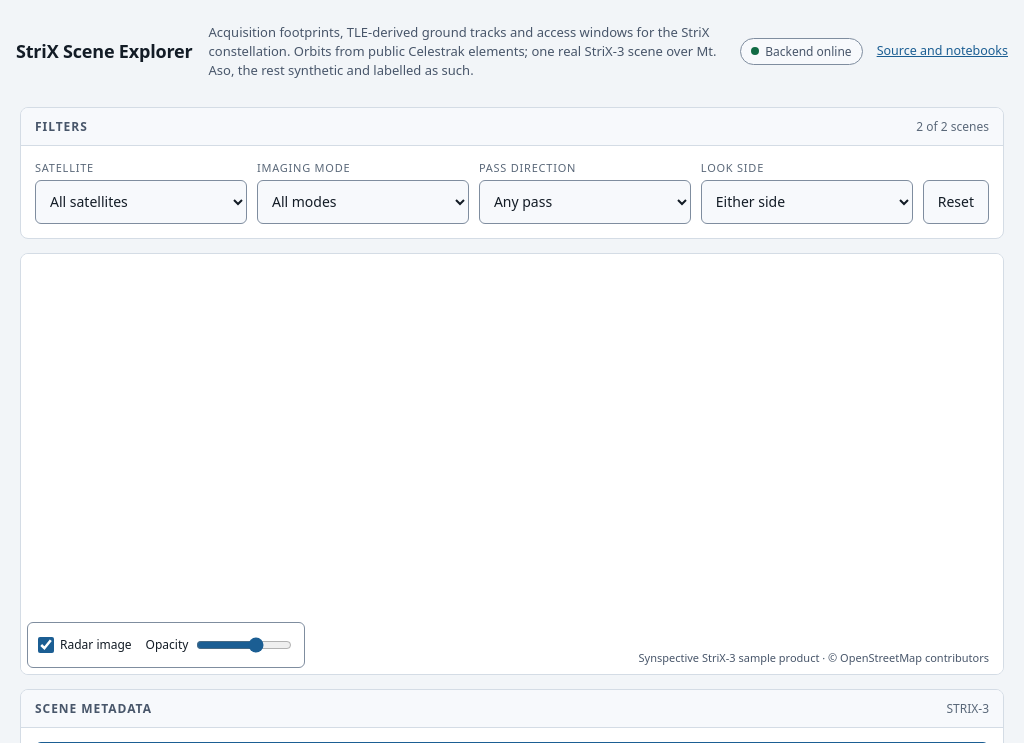
Test: App with the backend up › narrows the access-window timeline when a satellite is filtered
Select "STRIX-3" in the dropdown labelled "Satellite": (141, 202) [35, 180, 247, 224]
(page scrolled)
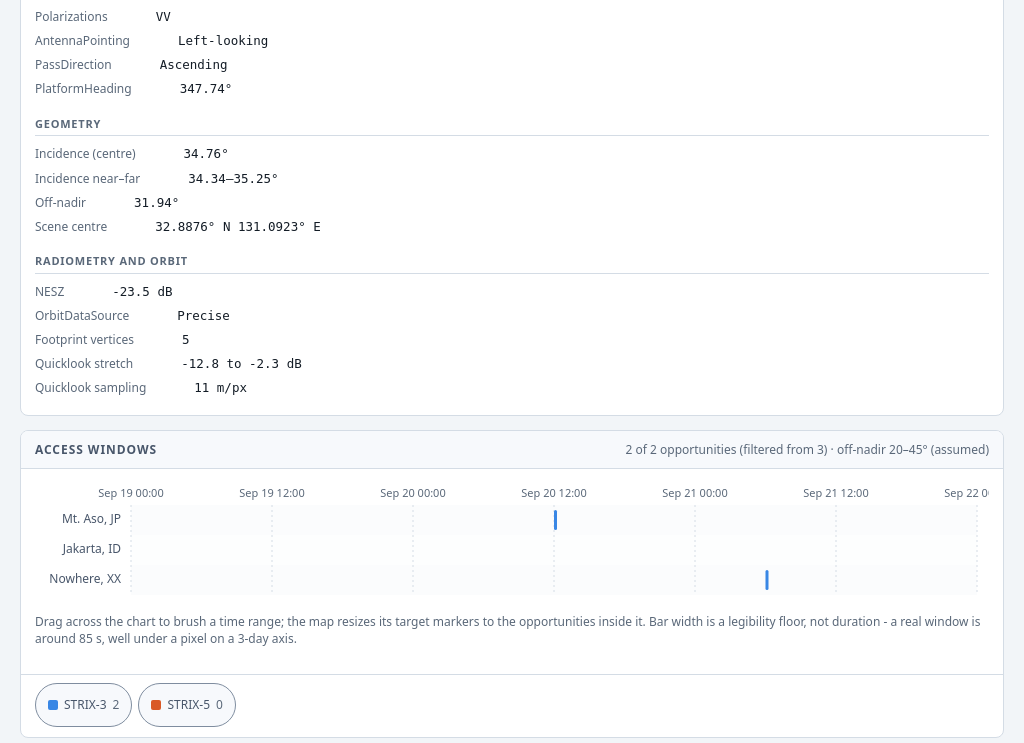
expect the text "filtered from 3" is shown: met, box [736, 440, 827, 458]
